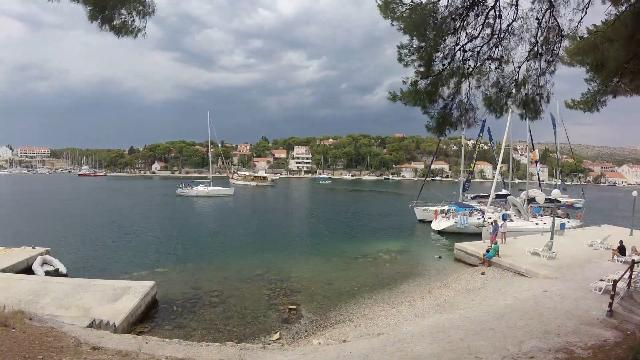Freighter: (224, 164, 282, 188)
Sailboat: (174, 176, 238, 202)
speedboat: (319, 177, 333, 187)
